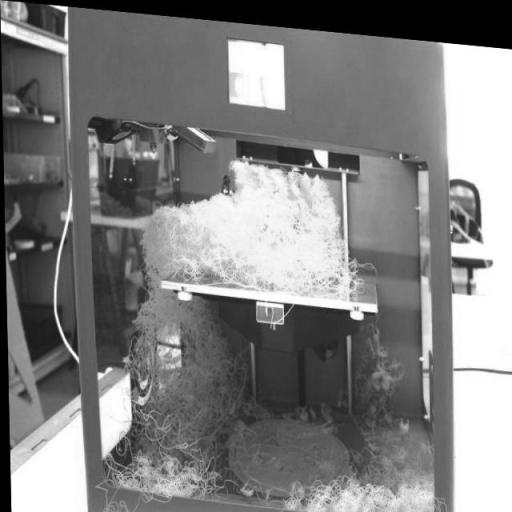spaghetti_and_stringing: (140, 140, 362, 294), (138, 280, 228, 498), (298, 462, 439, 512)
